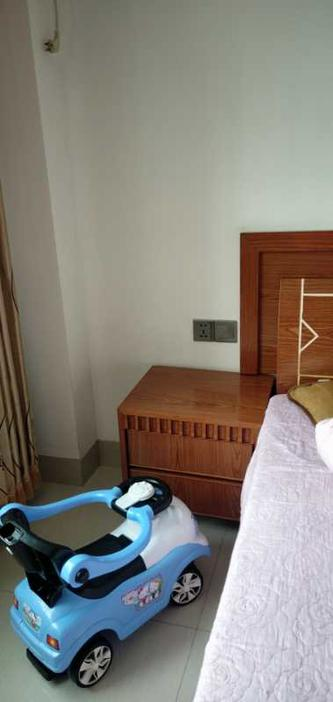switch: (216, 325, 245, 339)
